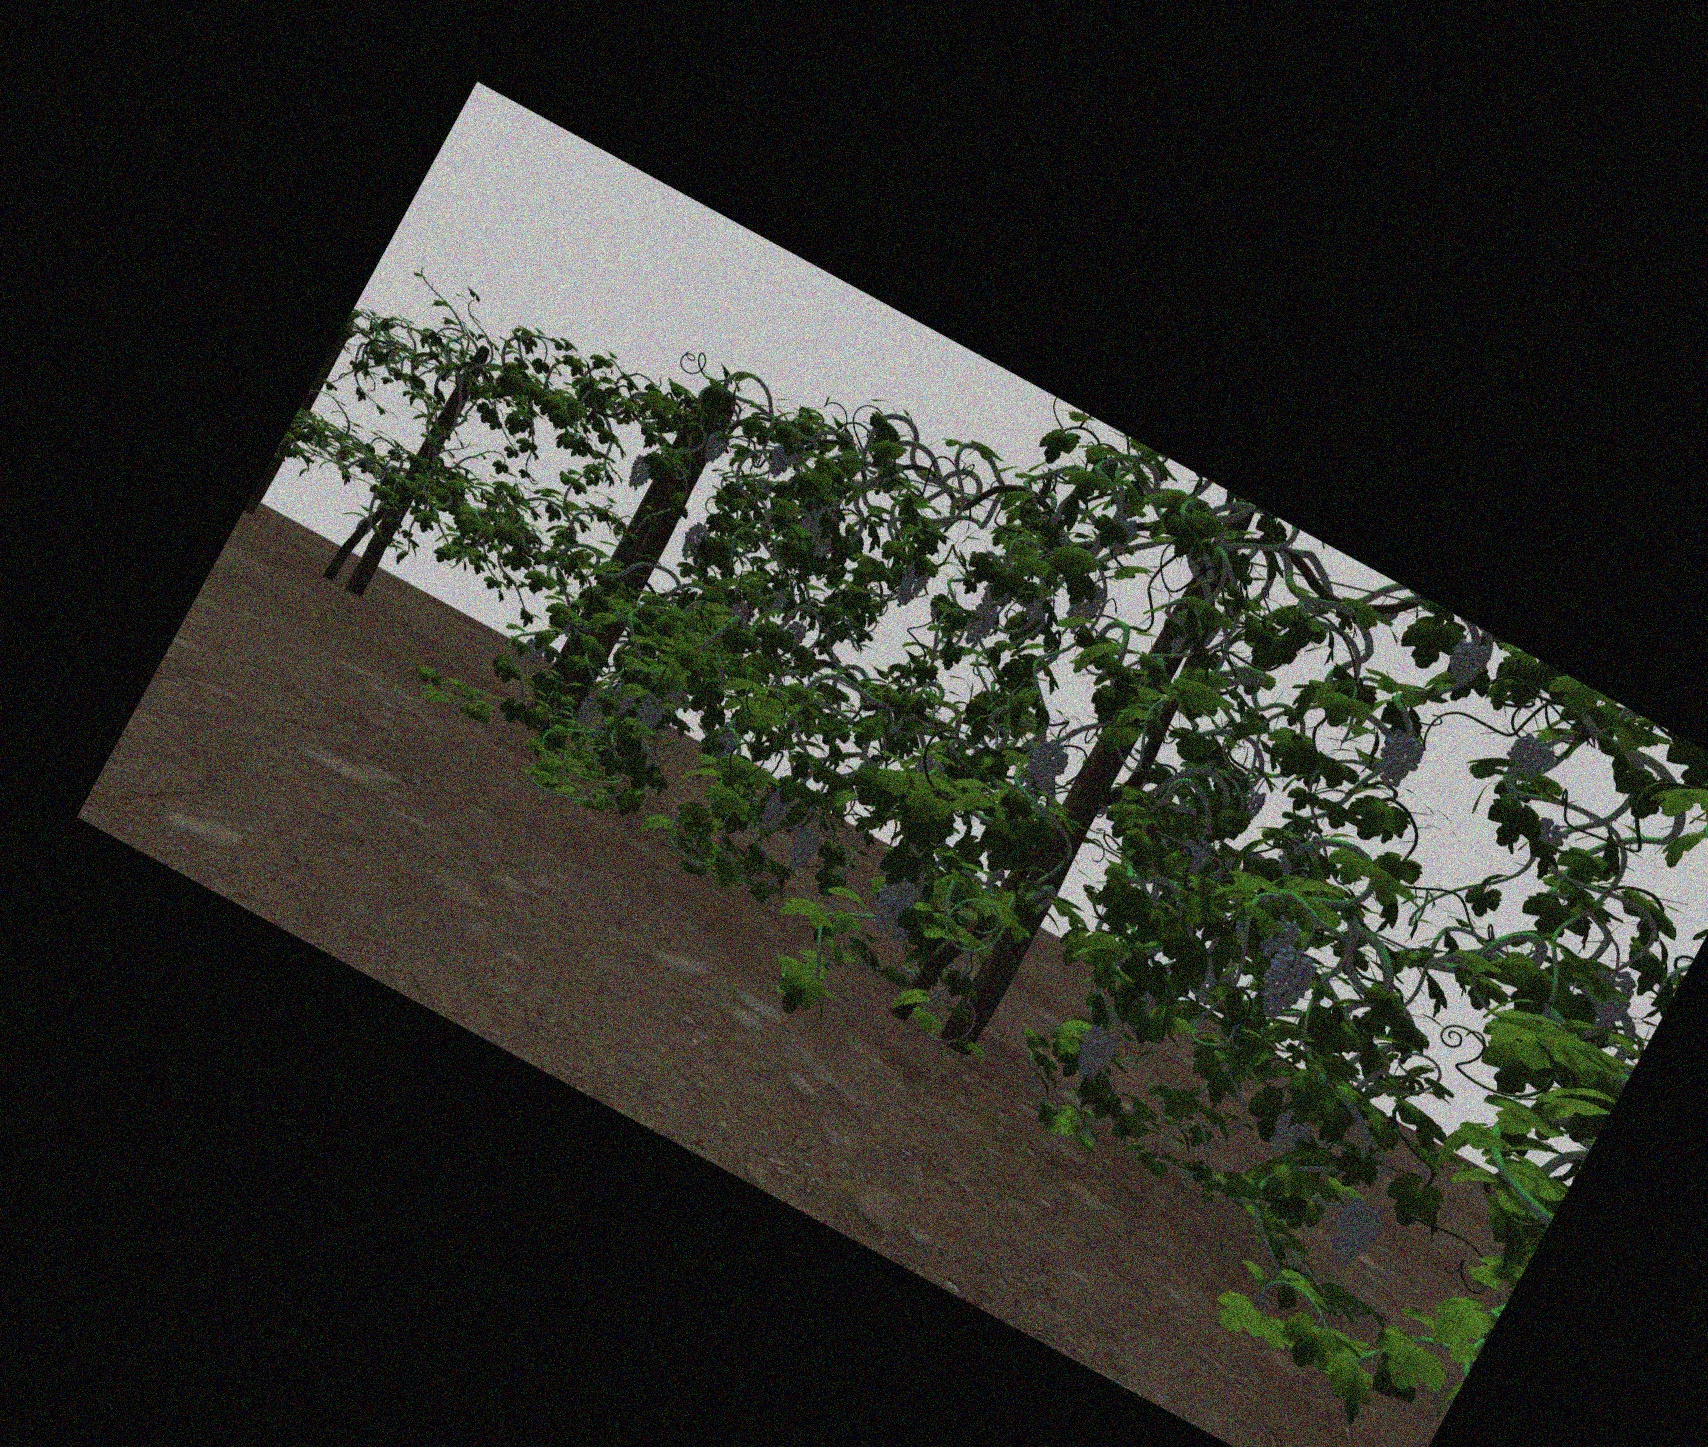grape: (1331, 1202, 1379, 1265), (1262, 950, 1310, 1013), (1376, 728, 1420, 787), (1076, 1025, 1117, 1078), (1507, 734, 1549, 782), (874, 879, 909, 936), (1269, 1113, 1309, 1160), (1029, 738, 1062, 794), (1447, 642, 1484, 688), (1066, 583, 1099, 629), (787, 825, 817, 870), (898, 563, 924, 609), (967, 604, 992, 647), (764, 790, 787, 831), (639, 695, 665, 728), (682, 524, 703, 560), (769, 445, 794, 477), (703, 431, 726, 462), (630, 454, 650, 490), (578, 698, 599, 728), (784, 623, 805, 647), (522, 637, 543, 663)
